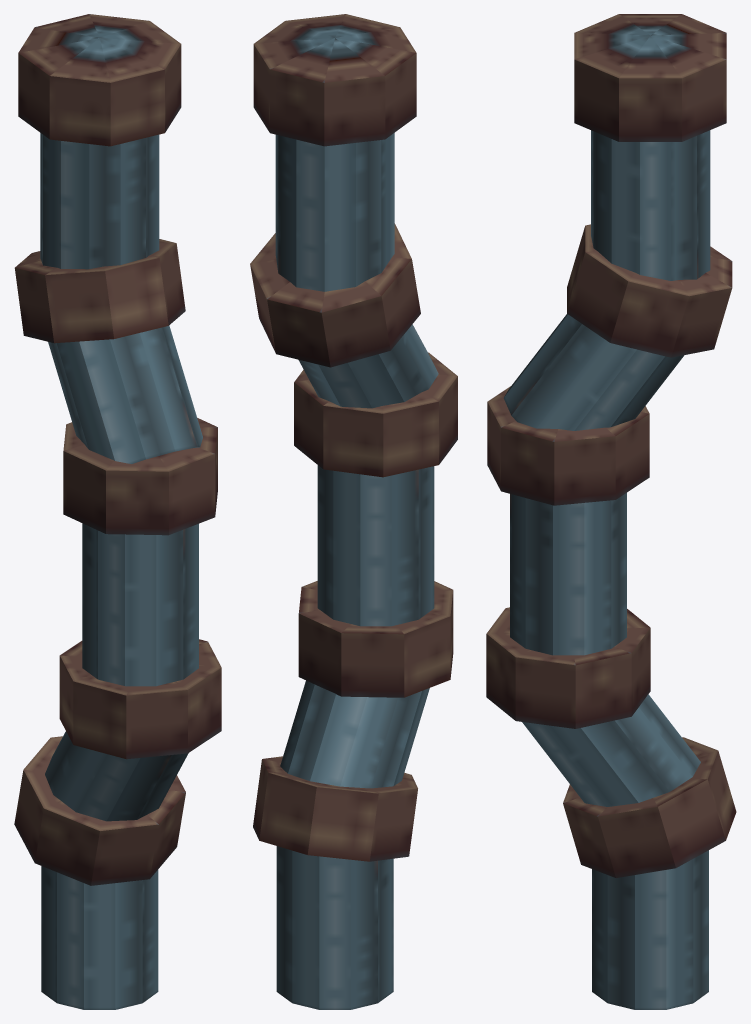
File: pipe.fbx
3 views of the same model, side by side, from view 1: azimuth 30°, elevation 25°; view 2: azimuth 150°, elevation 25°; view 3: azimuth 270°, elevation 25° (orthographic).
Parts seen in each view (by area): view 1: cylinder; view 2: cylinder; view 3: cylinder.
Boxes of the visible parts, x1,y1,x2,y2 form: cylinder: (14, 14, 221, 1009); cylinder: (250, 14, 457, 1009); cylinder: (486, 14, 736, 1009).
Size of the model in its own units: 87.61 by 559 by 133.
